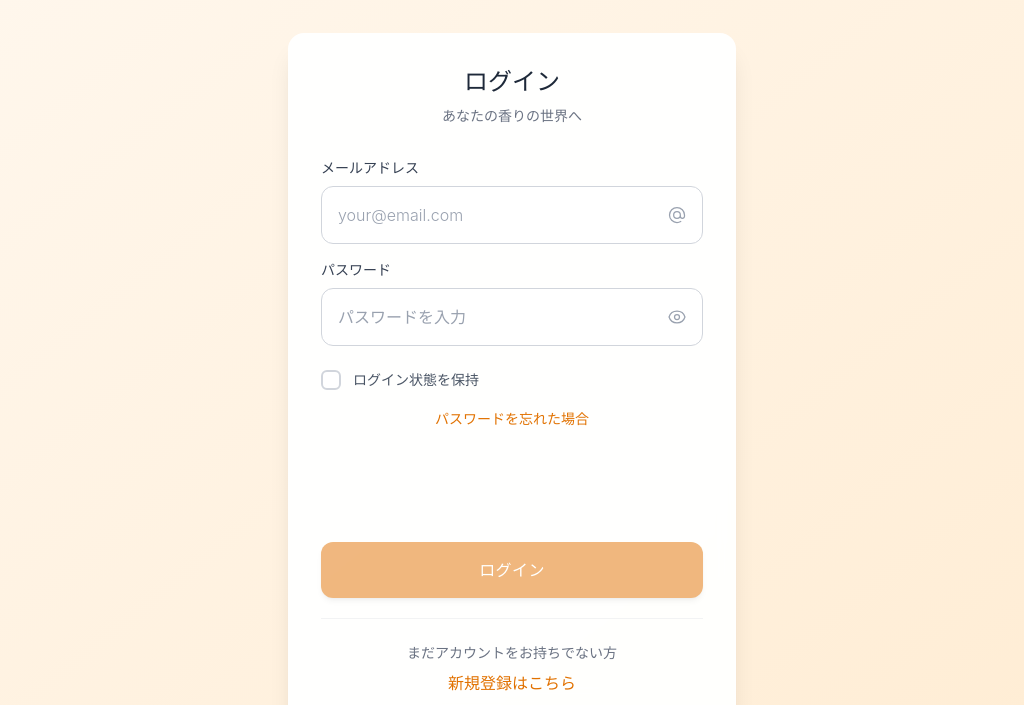
Test case: AuthPage › 基本表示 › アカウントをお持ちでない方はこちらモードに切り替えられる
Note: 新規登録リンクをクリック（実際のテキストは「新規登録はこちら」）
Click the button "新規登録はこちら". click: (512, 683)
box: [448,671,576,695]
(page scrolled)
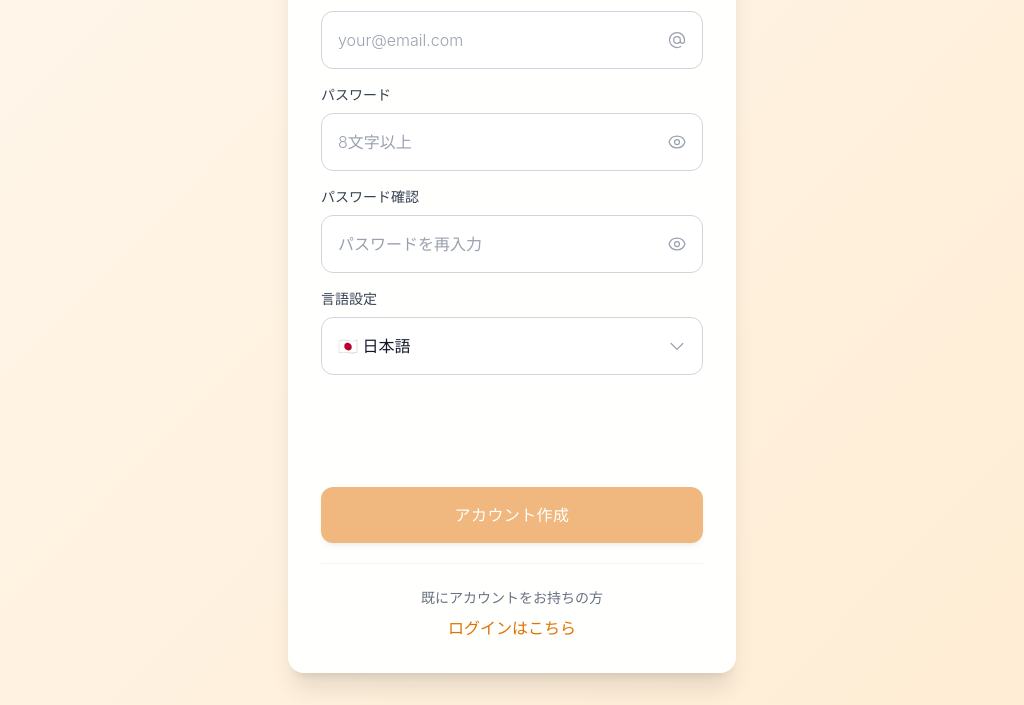
Check: the password field labelled "パスワード確認" is shown, box [321,215,703,273]
Check: the button "アカウント作成" is shown, box [321,487,703,543]
